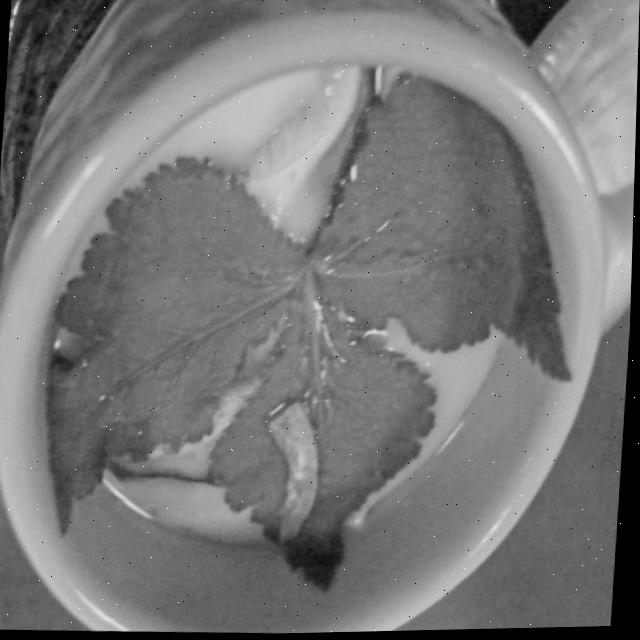鸡蛋料理: (0, 0, 590, 640)
